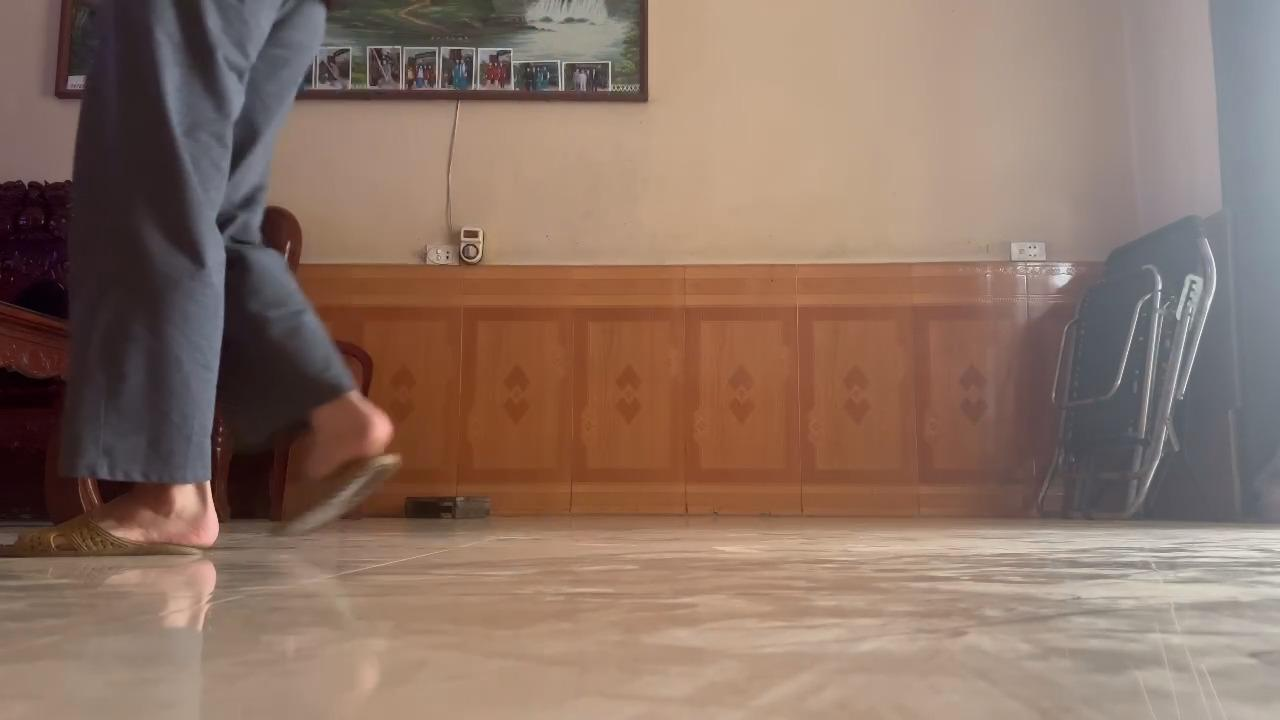no-boot: (258, 393, 412, 553), (0, 490, 230, 577)
